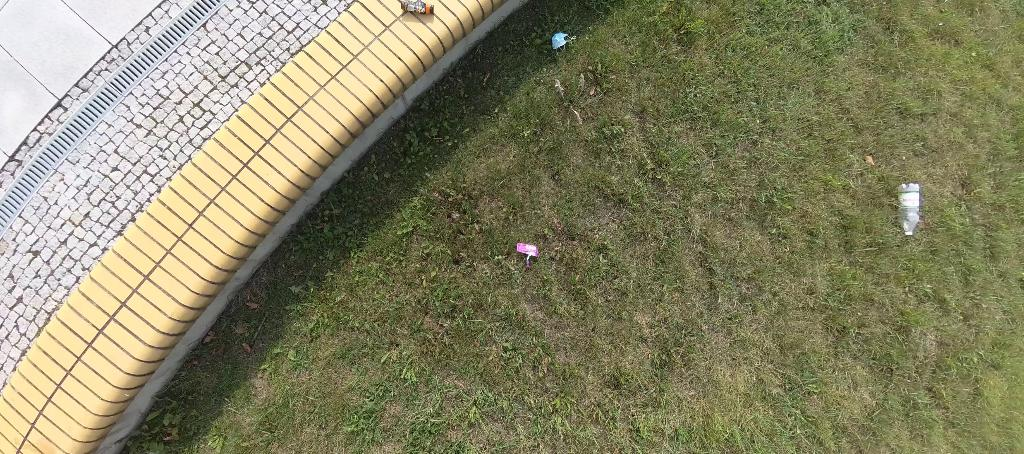garbage: (899, 179, 922, 241), (549, 30, 576, 51), (516, 240, 538, 265)
